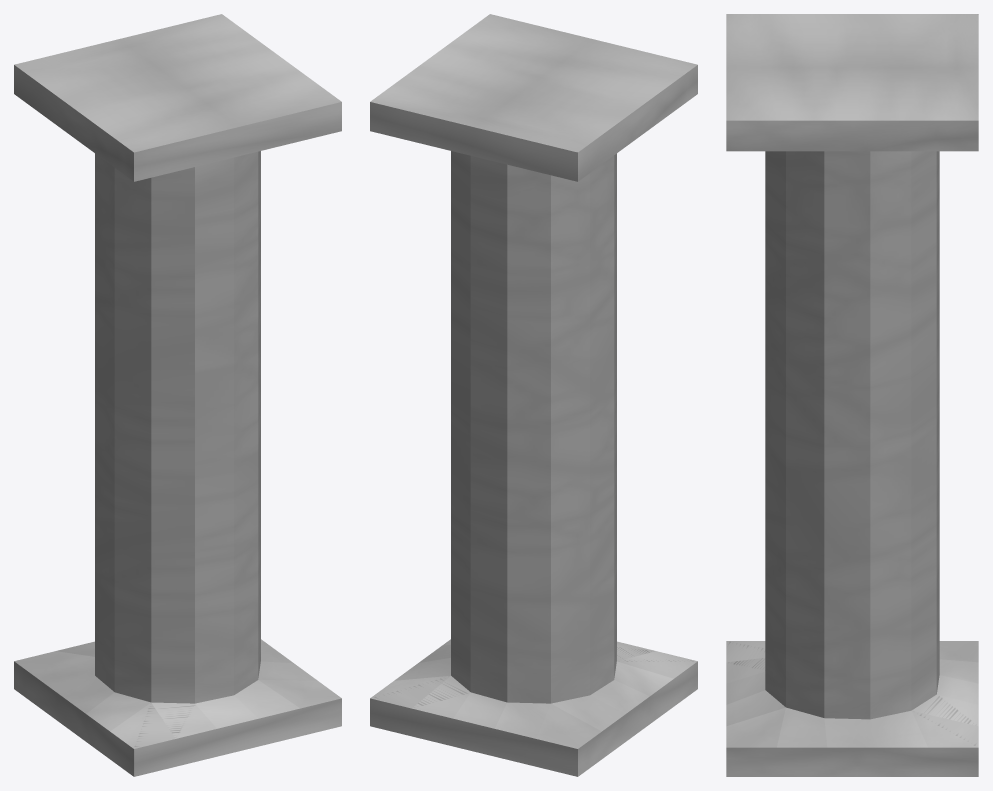
File: pilar.fbx
3 renders of one model, left to right at view 1: azimuth 30°, elevation 25°; view 2: azimuth 150°, elevation 25°; view 3: azimuth 270°, elevation 25°, orthographic. The views are drawn at different scales.
Visible parts, largest first — view 1: Cube; view 2: Cube; view 3: Cube.
Boxes of the visible parts, x1,y1,x2,y2 form: Cube: (14,14,341,776); Cube: (370,14,697,776); Cube: (726,14,978,776).
Bounding box in the file's own units: 239 × 685 × 239.
